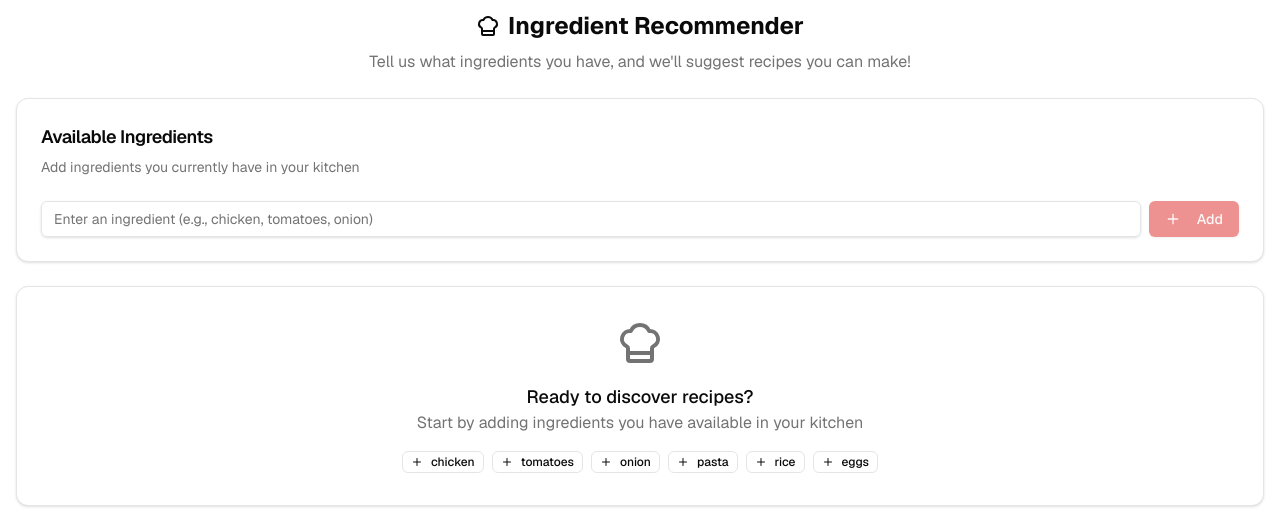
IngredientRecommender › Ingredient Input › should enable button when ingredient is typed
Expected: the button is disabled, [1149,201,1239,237]
Type "tomato" into the field with placeholder "Enter an ingredient (e.g., chicken, tomatoes, onion)" at (591, 219), box [41,201,1141,237]
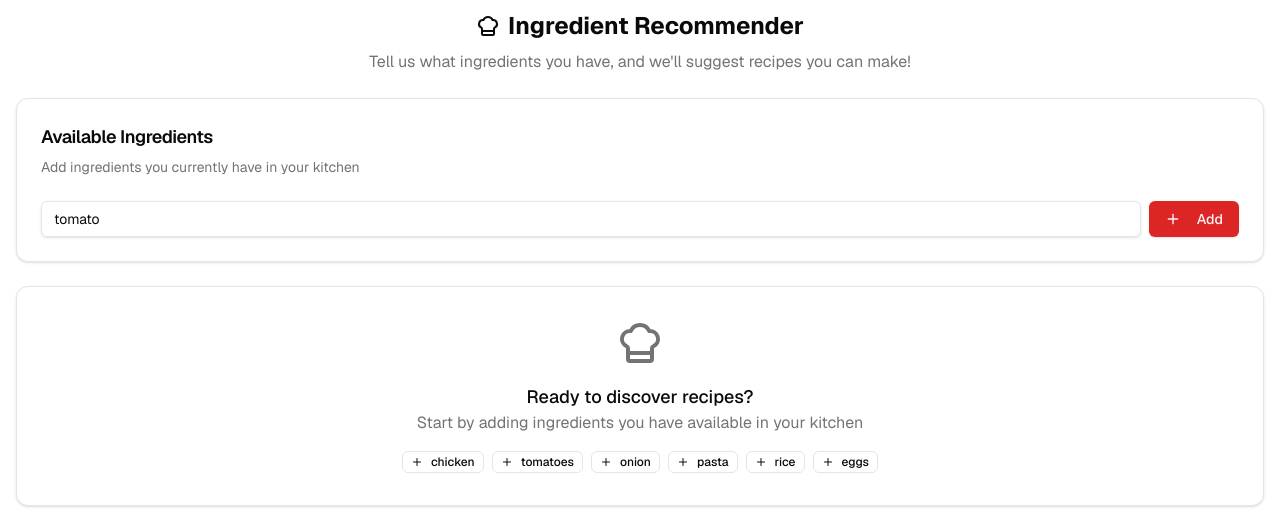
Result: the button is enabled at [1149,201,1239,237]
